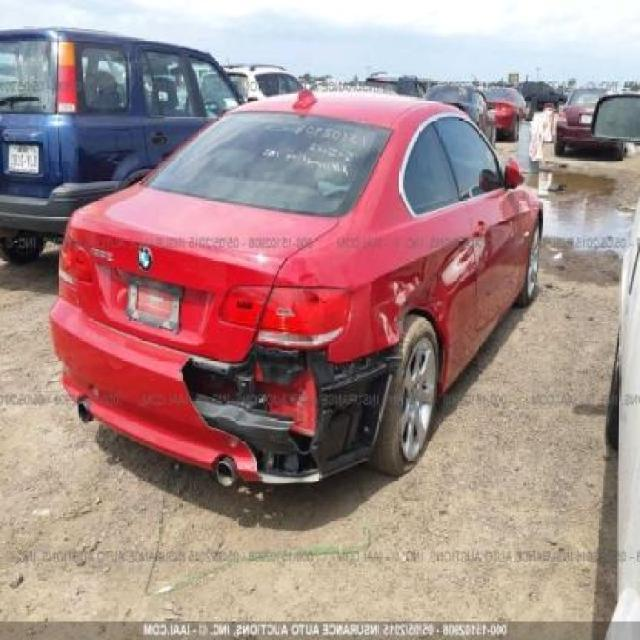minor: (182, 345, 395, 488)
